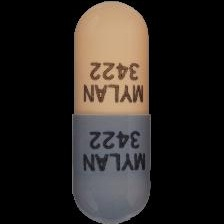51079-348: (0, 0, 224, 224)
